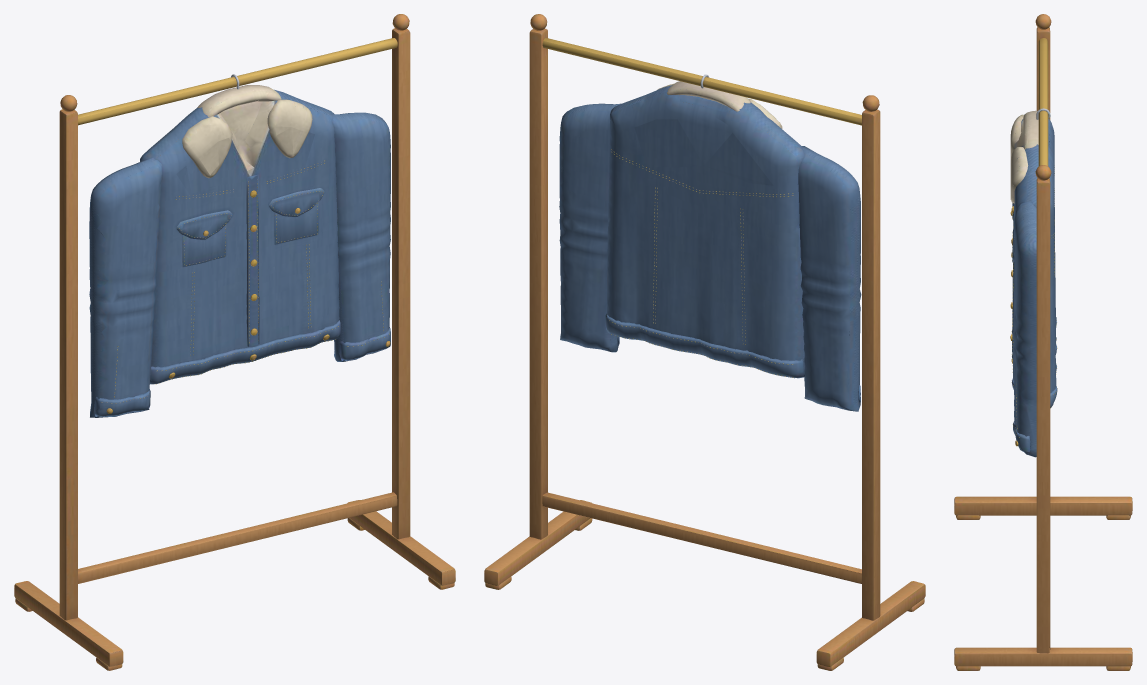
Rendered from jacket.glb.
3 renders of one model, left to right at view 1: azimuth 30°, elevation 25°; view 2: azimuth 150°, elevation 25°; view 3: azimuth 270°, elevation 25°, orthographic. The views are drawn at different scales.
Parts seen in each view (by area): view 1: jacket_body; view 2: jacket_body; view 3: jacket_body.
Part boxes in pixels (<box>): jacket_body: <box>14,14,455,670</box>; jacket_body: <box>484,14,925,670</box>; jacket_body: <box>954,14,1132,670</box>.
Size of the model in its own units: 0.9216 by 1.37 by 0.44.
Materials: 1 (1 with a texture image).
